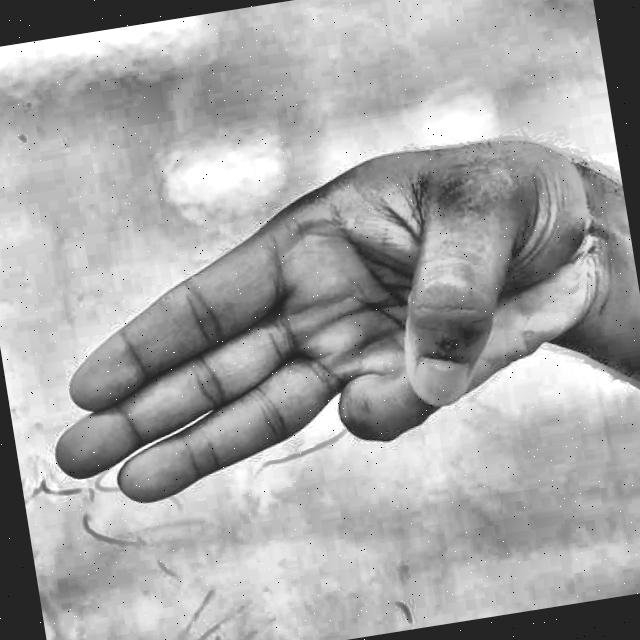Ma: (0, 111, 640, 562)
